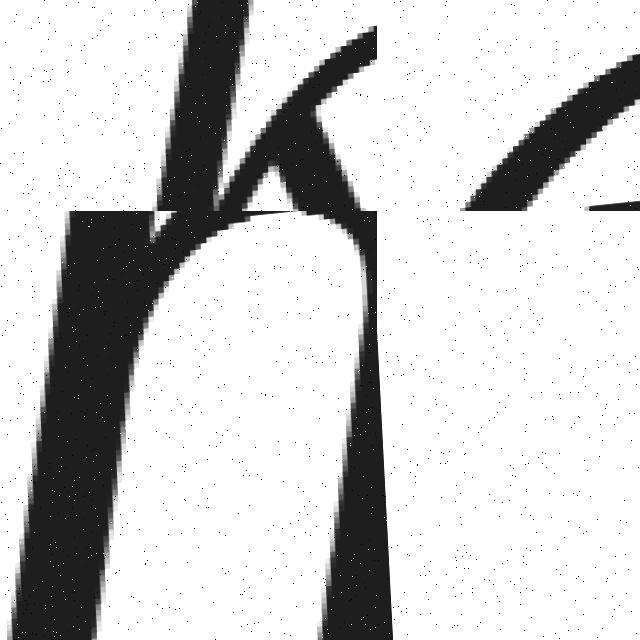6: (377, 6, 640, 211)
J: (585, 215, 640, 640)
K: (82, 0, 377, 211)
N: (0, 211, 377, 640)
